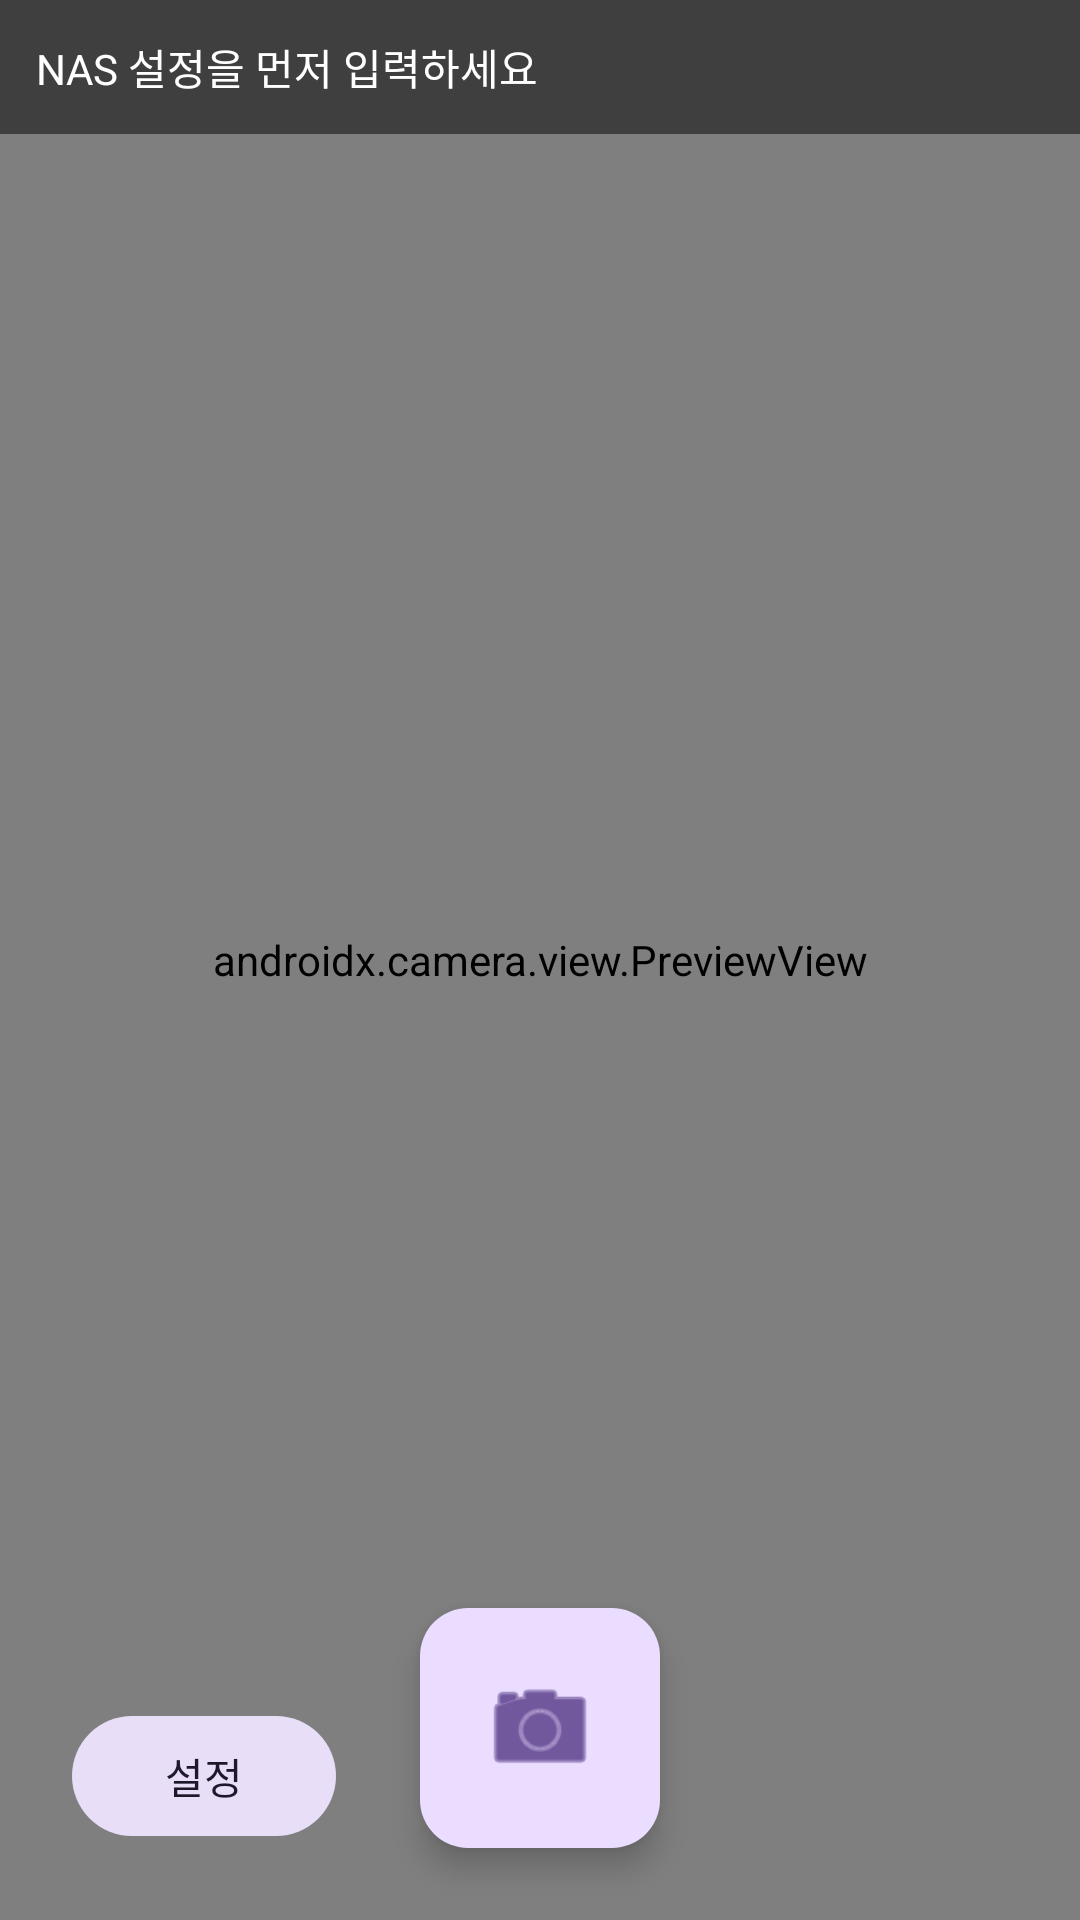

Locate icon controls on the screen. Image size 1080px×1920px, boxes as (x1, y1, x2, y2).
촬영: (420, 1608, 660, 1848)
